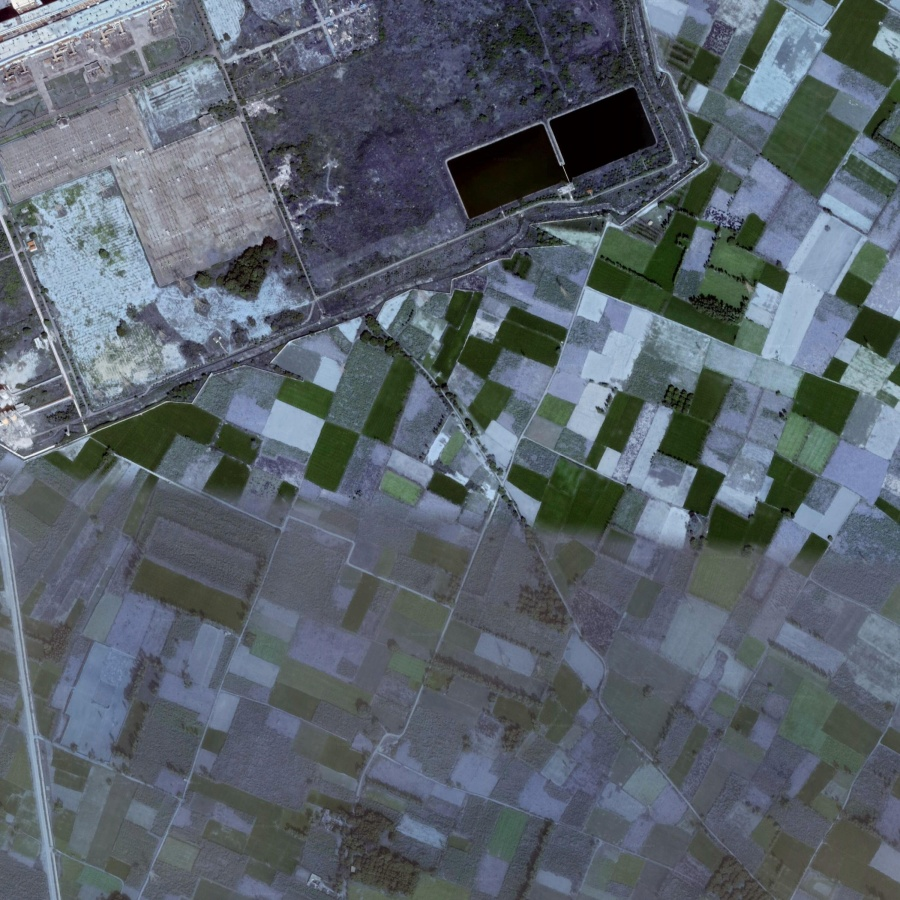PowerPlant: (426, 67, 667, 253)
